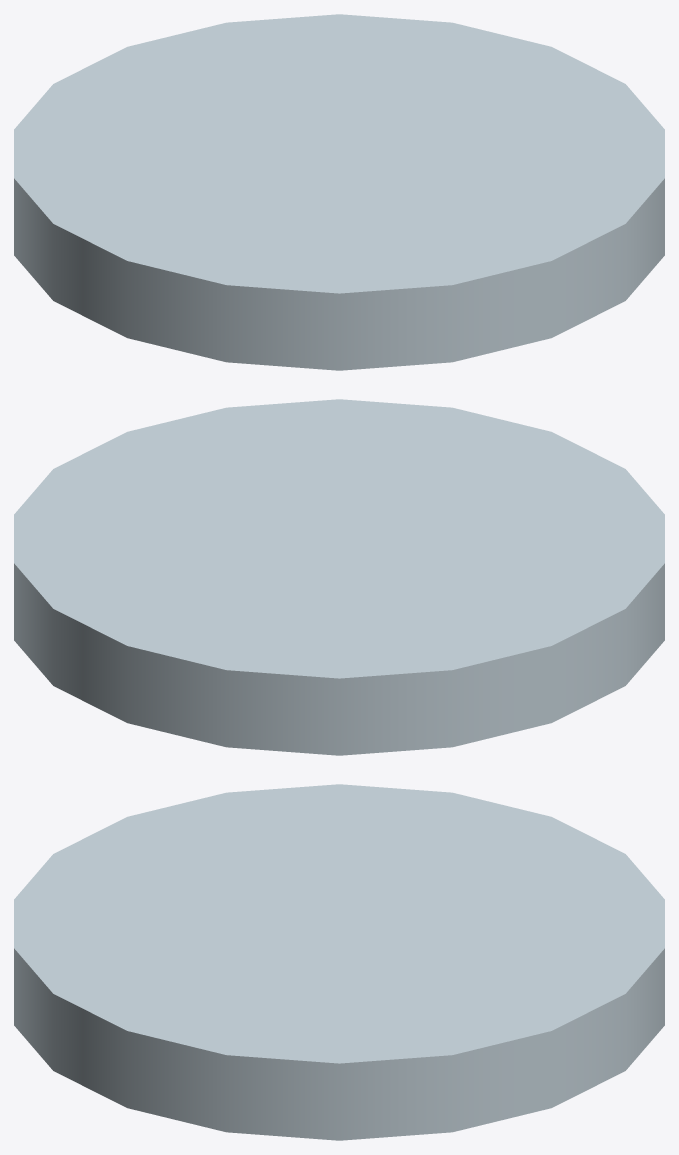
File: Single Coin.fbx
3 views of the same model, one above another, from view 1: azimuth 30°, elevation 25°; view 2: azimuth 150°, elevation 25°; view 3: azimuth 270°, elevation 25° (orthographic).
Visible parts, largest first — view 1: Cylinder030; view 2: Cylinder030; view 3: Cylinder030.
Boxes of the visible parts, <box> form: Cylinder030: <box>14,14,664,370</box>; Cylinder030: <box>14,399,664,755</box>; Cylinder030: <box>14,784,664,1140</box>.
Bounding box in the file's own units: 5.45 × 0.7025 × 5.37.
